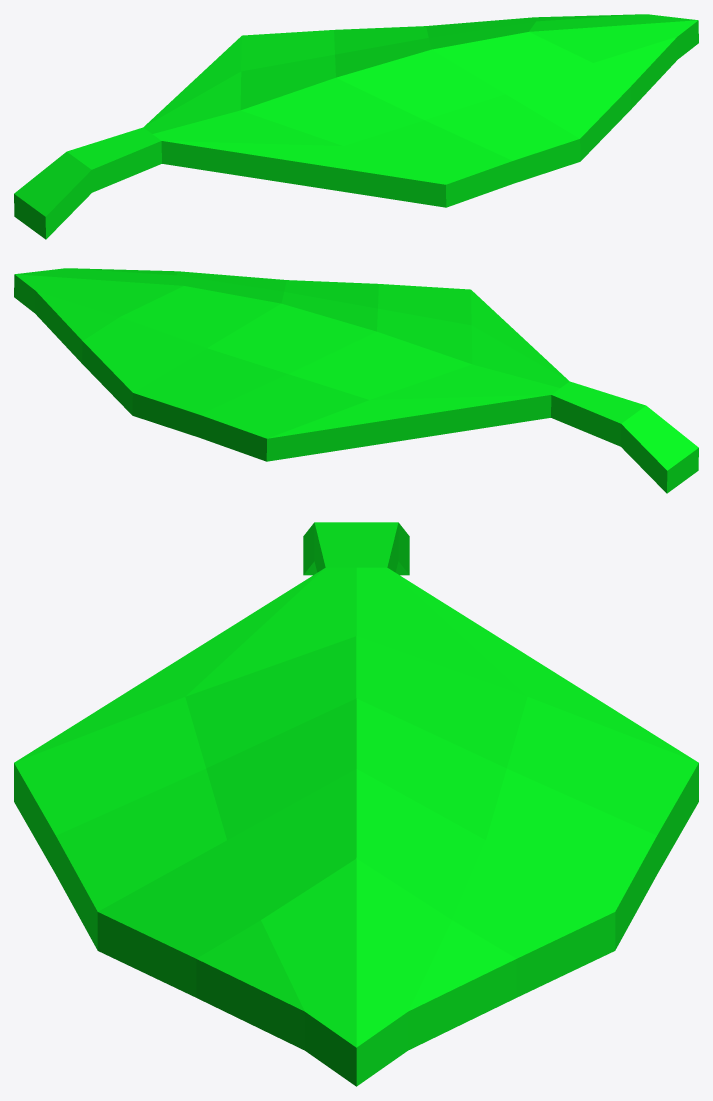
File: Apple Leaf.fbx
3 views of the same model, one above another, from view 1: azimuth 30°, elevation 25°; view 2: azimuth 150°, elevation 25°; view 3: azimuth 270°, elevation 25° (orthographic). The views are drawn at different scales.
Parts seen in each view (by area): view 1: Apple Leaf; view 2: Apple Leaf; view 3: Apple Leaf.
Part boxes in pixels (x1,y1,x2,y2): Apple Leaf: (14,14,698,239); Apple Leaf: (14,268,698,493); Apple Leaf: (14,522,698,1086).
Bounding box in the file's own units: 304 × 35.09 × 161.
